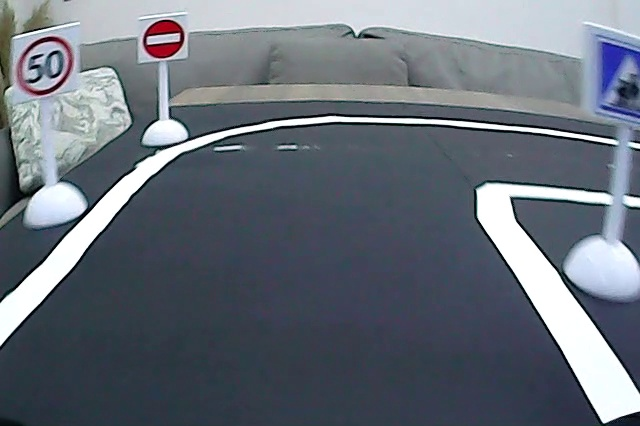do not enter: (141, 16, 187, 61)
school crossing: (590, 33, 640, 124)
speed limit 50: (14, 31, 78, 98)
